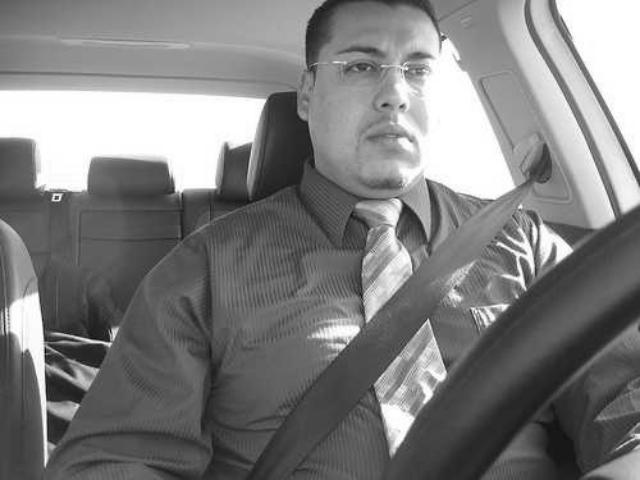SafeDriving: (336, 52, 383, 78), (398, 56, 436, 80)
Seatbelt: (244, 130, 550, 480)
